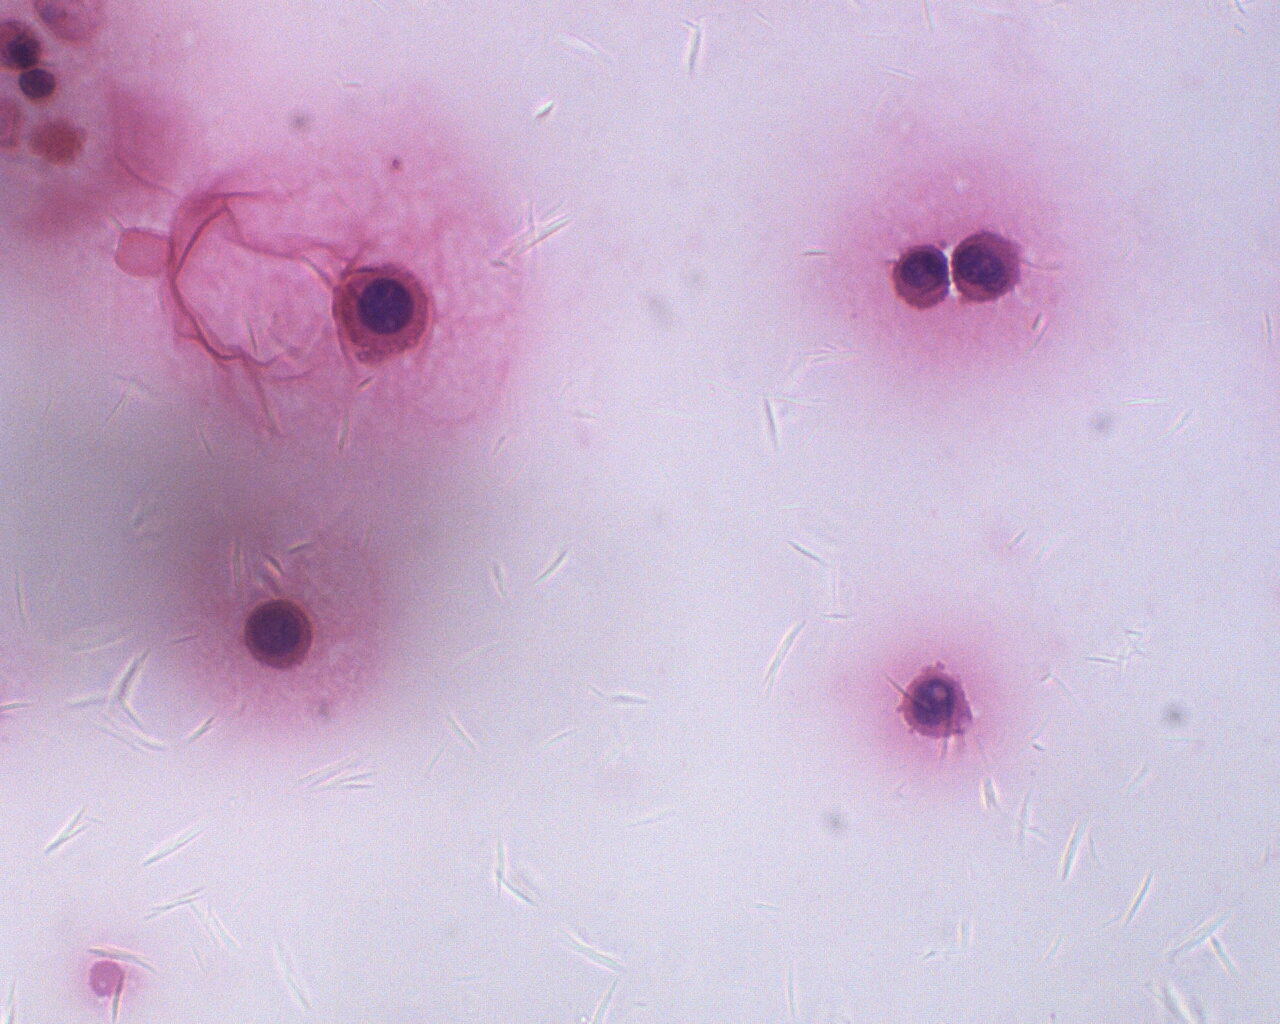ab: (953, 225, 1029, 307), (241, 597, 315, 674), (888, 237, 951, 309)
meso: (333, 259, 438, 363), (889, 658, 972, 742)
